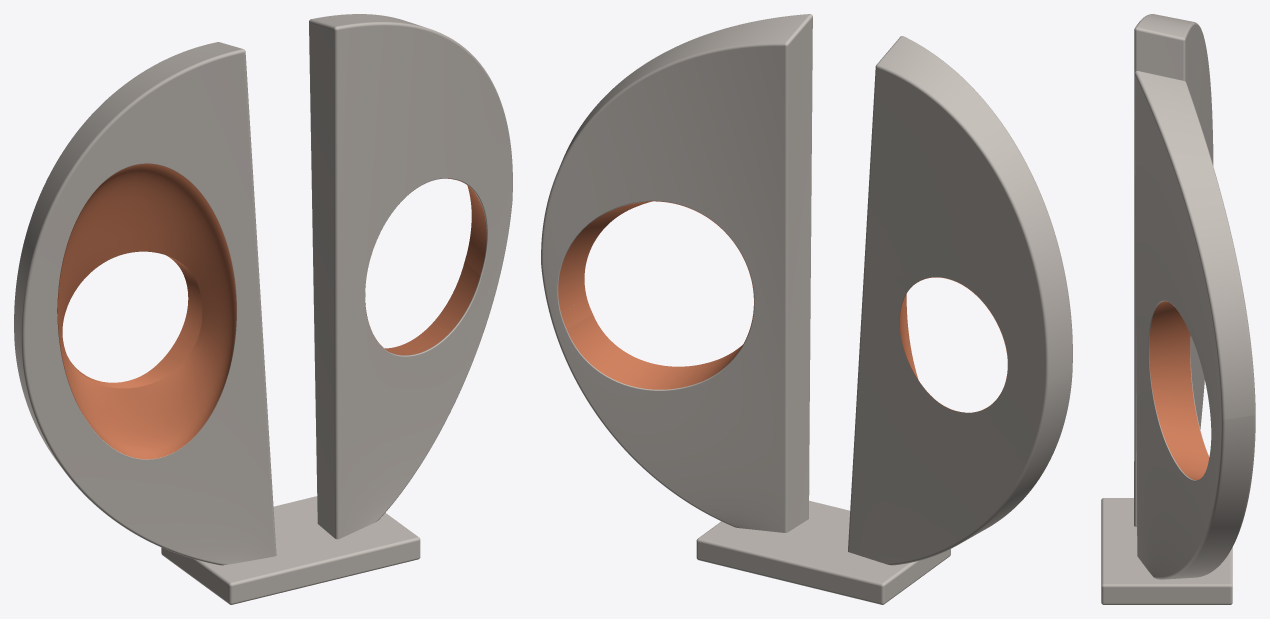
3 renders of one model, left to right at view 1: azimuth 30°, elevation 25°; view 2: azimuth 150°, elevation 25°; view 3: azimuth 270°, elevation 25°, orthographic. The views are drawn at different scales.
Parts seen in each view (by area): view 1: Layer 02 (×3), inside (×2); view 2: Layer 02 (×3), inside (×2); view 3: Layer 02 (×3), inside.
Part boxes in pixels (<box>): Layer 02 (×3): <box>14,14,512,604</box>; inside (×2): <box>57,163,486,459</box>; Layer 02 (×3): <box>541,14,1072,604</box>; inside (×2): <box>558,201,1007,412</box>; Layer 02 (×3): <box>1101,14,1255,604</box>; inside: <box>1149,301,1209,480</box>.
Size of the model in its own units: 59.08 by 58.95 by 16.36.
